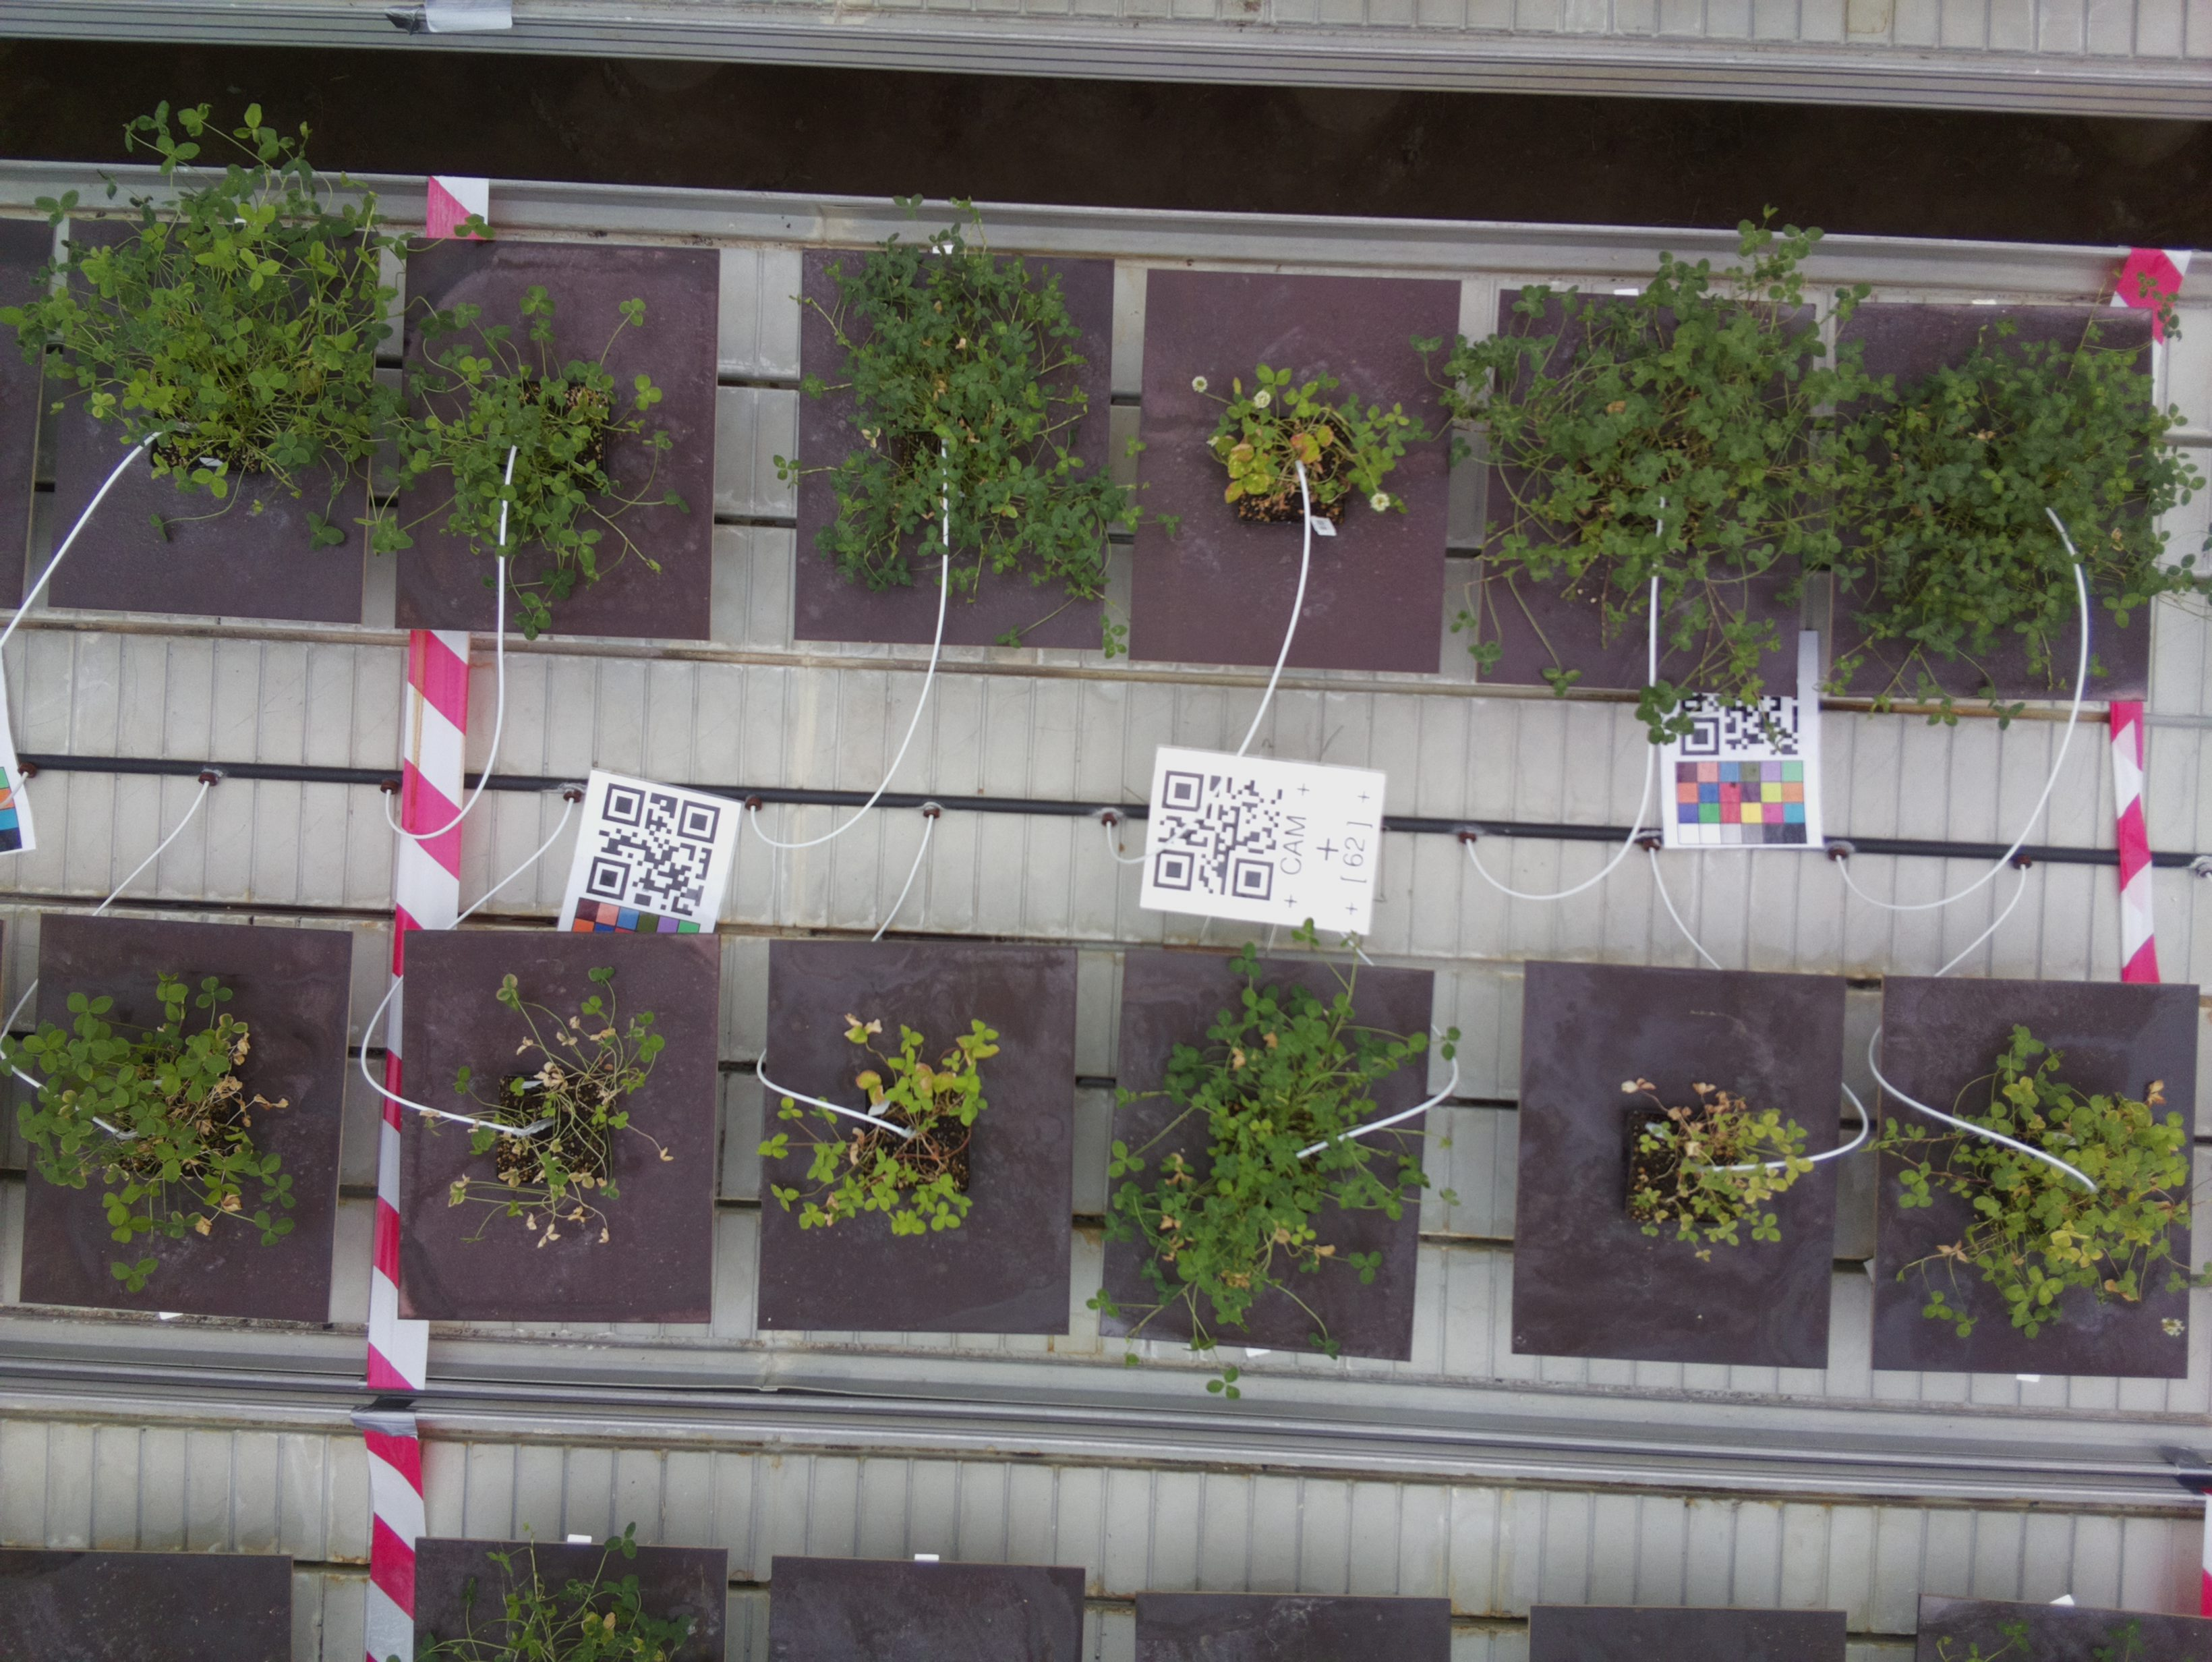POT: (1138, 269, 1456, 681), (1500, 281, 1809, 704), (1833, 297, 2147, 709), (1521, 958, 1835, 1369), (798, 243, 1107, 656), (1877, 974, 2189, 1383), (1096, 960, 1440, 1329), (403, 236, 712, 639), (402, 924, 712, 1320), (768, 937, 1075, 1330)
QRCODE: (1149, 745, 1383, 937)
QRCOLOR: (1666, 698, 1826, 850)
